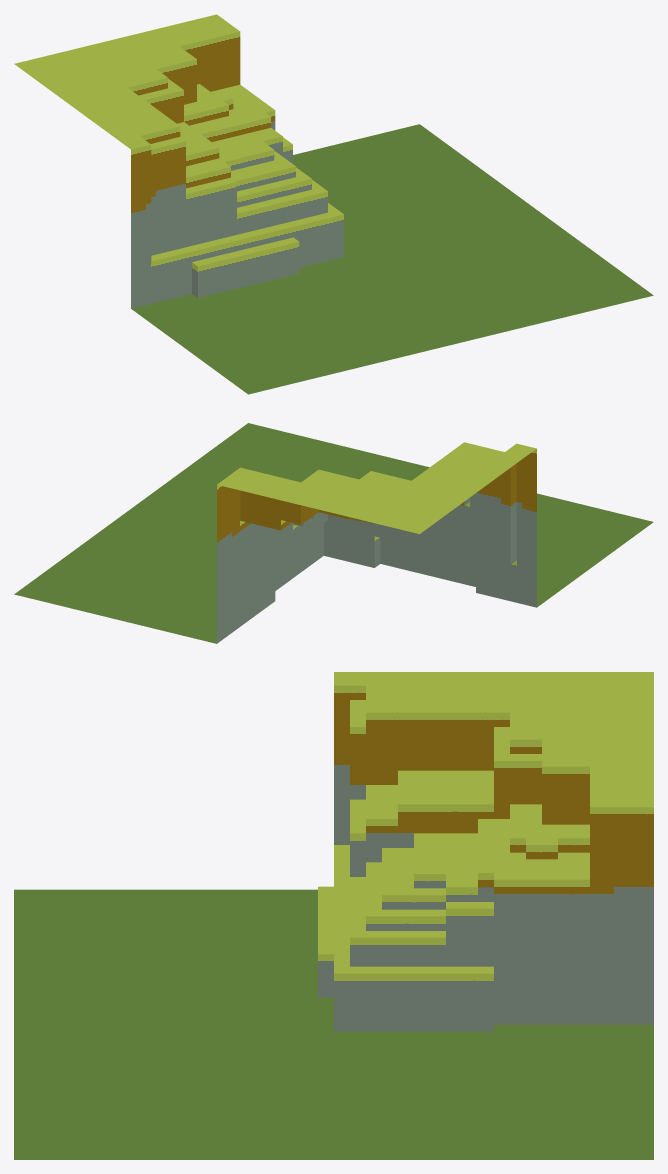
Rendered from MLLL(1).glb.
3 views of the same model, one above another, from view 1: azimuth 30°, elevation 25°; view 2: azimuth 150°, elevation 25°; view 3: azimuth 270°, elevation 25° (orthographic). The views are drawn at different scales.
Visible parts, largest first — view 1: model_0.002; view 2: model_0.002; view 3: model_0.002.
Part boxes in pixels (x1,y1,x2,y2): model_0.002: (14,14,653,394); model_0.002: (14,423,653,643); model_0.002: (14,672,653,1159).
Bounding box in the file's own units: 80 × 30 × 80.
1 material, 1 textured.
